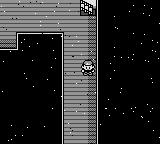main: (81, 61, 95, 76)
no-caminable: (97, 0, 159, 142), (1, 33, 62, 143)
puerta: (0, 32, 17, 49), (81, 0, 96, 16)
